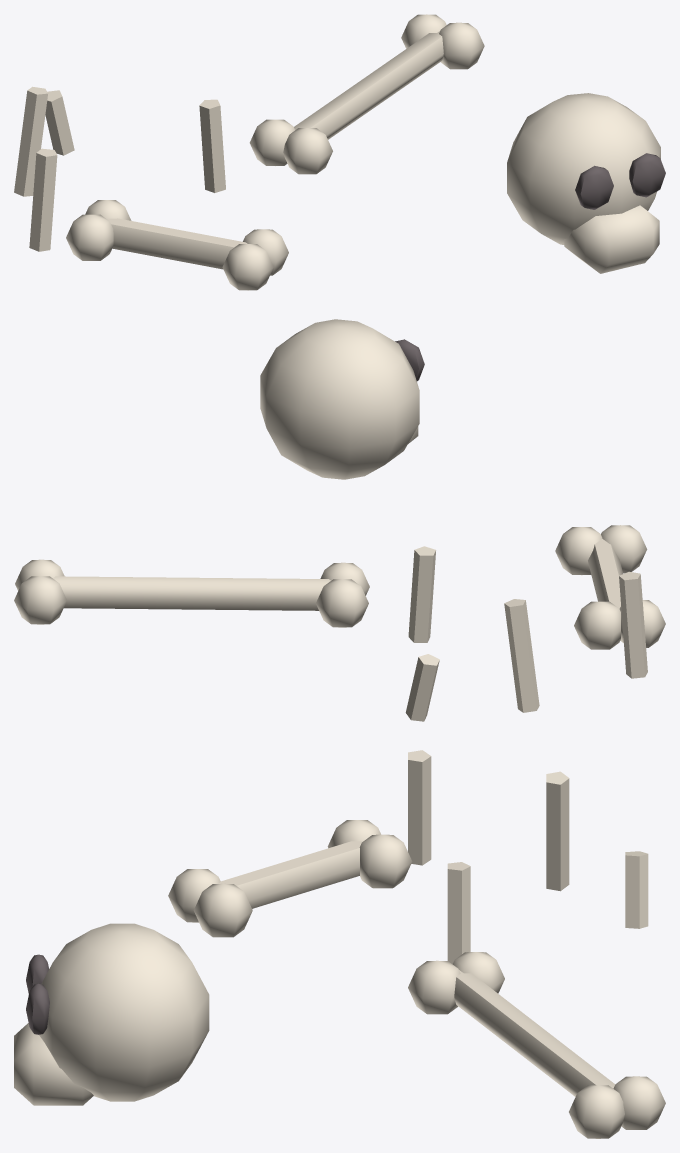
The model's file is bone_pile.glb.
3 renders of one model, top to bottom at view 1: azimuth 30°, elevation 25°; view 2: azimuth 150°, elevation 25°; view 3: azimuth 270°, elevation 25°, orthographic. The views are drawn at different scales.
Visible parts, largest first — view 1: bone_pile; view 2: bone_pile; view 3: bone_pile.
Part boxes in pixels (<box>): bone_pile: <box>14,14,665,290</box>; bone_pile: <box>14,319,665,721</box>; bone_pile: <box>14,750,665,1138</box>.
Bounding box in the file's own units: 0.708 × 0.183 × 0.6608.
